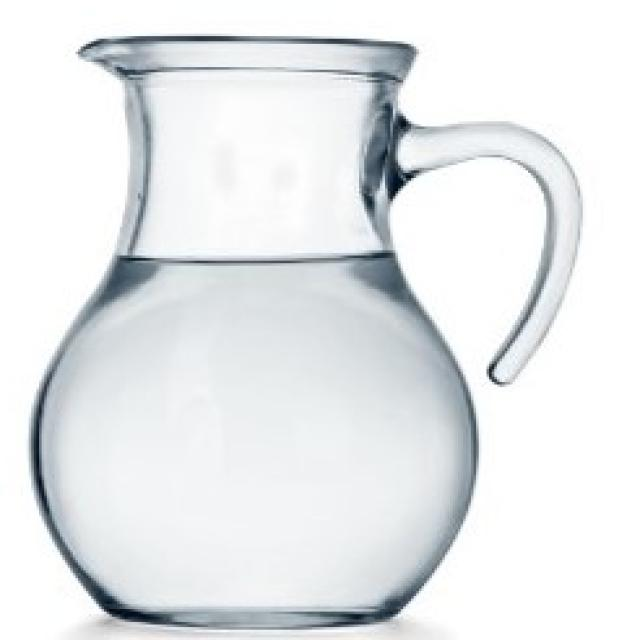electronic: (32, 30, 583, 632)
